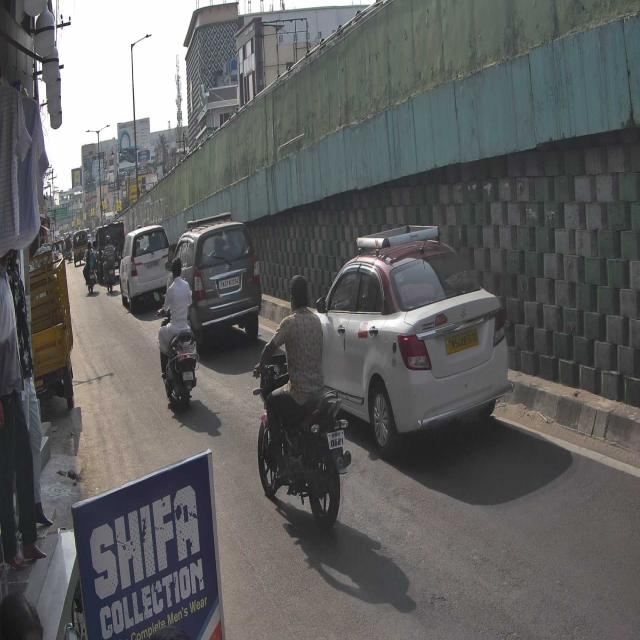single_rider: (252, 270, 352, 530), (153, 254, 200, 411)
